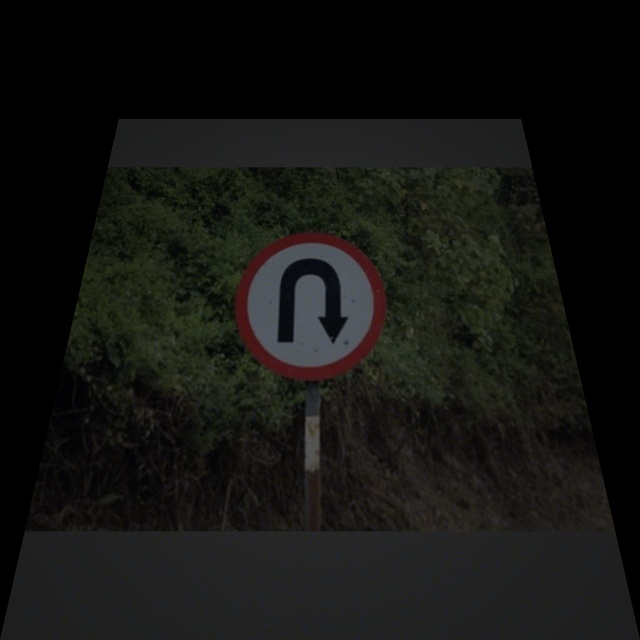U_Turn_Ahead: (229, 235, 396, 375)
